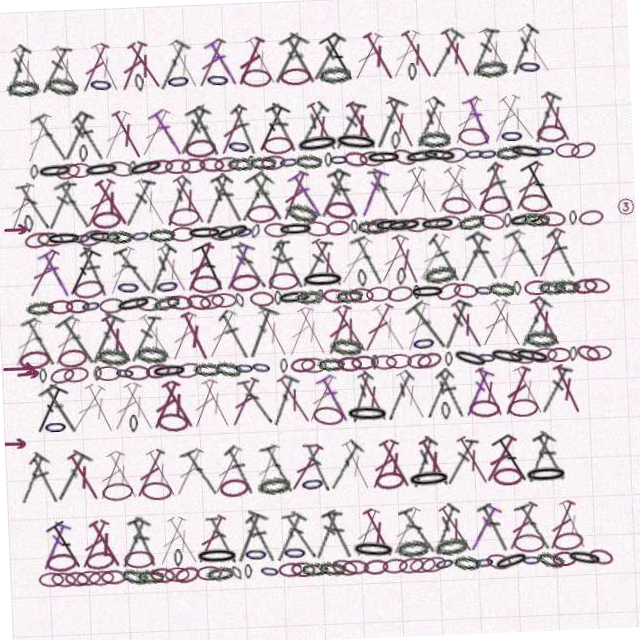chain: (340, 132, 387, 156), (449, 352, 488, 378), (302, 133, 348, 155), (341, 541, 387, 563), (288, 199, 324, 225), (217, 217, 256, 241), (482, 557, 521, 581), (341, 406, 386, 426), (486, 353, 525, 376), (133, 150, 172, 172), (511, 354, 550, 376), (555, 558, 594, 580), (400, 474, 445, 493), (54, 64, 89, 88), (514, 150, 553, 171), (115, 286, 154, 307), (302, 271, 347, 289), (517, 475, 562, 493), (185, 543, 230, 561), (424, 268, 459, 291), (424, 540, 459, 563), (74, 269, 107, 291), (152, 405, 185, 427), (308, 405, 341, 427), (427, 151, 465, 170), (511, 219, 549, 238), (133, 337, 167, 358), (328, 337, 362, 358), (250, 473, 284, 494), (89, 152, 127, 170), (410, 152, 448, 170), (389, 220, 427, 238), (525, 558, 556, 580), (484, 66, 518, 86), (94, 338, 128, 358), (386, 542, 420, 562), (465, 133, 497, 154), (543, 541, 575, 562), (329, 201, 360, 222), (75, 541, 106, 562), (277, 288, 315, 305), (436, 285, 464, 308), (573, 353, 601, 376), (524, 202, 556, 222), (17, 338, 49, 358), (134, 474, 166, 494), (460, 218, 490, 239), (152, 286, 182, 307), (109, 558, 139, 579), (43, 152, 80, 169), (90, 220, 127, 237), (328, 66, 361, 85), (523, 338, 556, 357), (485, 202, 516, 222), (231, 270, 262, 290), (56, 338, 87, 358), (212, 474, 243, 494), (397, 150, 425, 172), (81, 218, 110, 239), (506, 354, 535, 375), (320, 558, 349, 579), (211, 355, 241, 375), (16, 67, 49, 85), (425, 135, 458, 153), (423, 221, 460, 237), (149, 357, 186, 373), (251, 66, 282, 85), (192, 134, 223, 153), (173, 202, 204, 221), (251, 202, 282, 221), (446, 202, 477, 221), (192, 270, 223, 289), (465, 406, 496, 425), (95, 474, 126, 493), (368, 474, 399, 493), (36, 542, 67, 561), (504, 542, 535, 561), (577, 558, 605, 579), (544, 134, 574, 153), (96, 202, 126, 221), (233, 133, 260, 154), (113, 151, 141, 171), (576, 151, 604, 171), (482, 219, 510, 239), (290, 67, 321, 85), (270, 135, 301, 153), (270, 271, 301, 289), (504, 407, 535, 425), (114, 543, 145, 561), (372, 153, 409, 168), (49, 221, 86, 236), (190, 221, 227, 236), (281, 221, 318, 236), (377, 221, 414, 236), (410, 289, 447, 304), (61, 151, 88, 171), (186, 287, 213, 307), (47, 355, 74, 375), (414, 355, 441, 375), (486, 475, 516, 493), (163, 559, 190, 579), (410, 559, 437, 579), (475, 559, 502, 579), (27, 219, 55, 238), (195, 560, 224, 578), (98, 66, 124, 86), (215, 66, 241, 86), (156, 270, 182, 290), (447, 152, 475, 170), (307, 220, 335, 238), (584, 288, 612, 306), (527, 66, 553, 85), (117, 270, 143, 289), (410, 338, 436, 357), (293, 474, 319, 493), (501, 152, 530, 169), (26, 288, 55, 305), (295, 288, 324, 305), (488, 288, 517, 305), (553, 288, 582, 305), (307, 560, 336, 577), (442, 560, 471, 577), (349, 152, 376, 170), (167, 288, 194, 306), (388, 288, 415, 306), (173, 356, 200, 374), (53, 560, 80, 578), (399, 560, 426, 578), (176, 66, 201, 85), (234, 542, 259, 561), (273, 542, 298, 561), (582, 220, 608, 238), (200, 288, 226, 306), (323, 288, 349, 306), (454, 288, 480, 306), (40, 560, 66, 578), (388, 560, 414, 578), (153, 152, 180, 169), (40, 220, 67, 237), (267, 220, 294, 237), (370, 220, 397, 237), (439, 220, 466, 237), (543, 220, 570, 237), (529, 356, 556, 373), (332, 560, 359, 577), (507, 135, 532, 153), (39, 407, 64, 425), (301, 153, 329, 169), (360, 221, 388, 237), (336, 289, 364, 305), (539, 289, 567, 305), (126, 561, 154, 577), (187, 152, 213, 169), (205, 152, 231, 169), (220, 152, 246, 169), (329, 220, 355, 237), (136, 288, 162, 305), (250, 288, 276, 305), (61, 356, 87, 373), (143, 356, 169, 373), (288, 356, 314, 373), (65, 560, 91, 577), (139, 560, 165, 577), (280, 560, 306, 577), (423, 559, 446, 578), (409, 221, 436, 237), (369, 357, 396, 373), (233, 153, 261, 168), (255, 153, 283, 168), (108, 221, 136, 236), (151, 221, 179, 236), (526, 221, 554, 236), (191, 357, 219, 372), (315, 357, 343, 372), (290, 561, 318, 576), (267, 153, 293, 169), (366, 153, 392, 169), (573, 289, 599, 305), (122, 357, 148, 373), (299, 357, 325, 373), (78, 561, 104, 577), (372, 561, 398, 577), (236, 220, 259, 238), (248, 356, 271, 374), (248, 560, 271, 578), (212, 221, 237, 237), (100, 289, 125, 305), (350, 289, 375, 305), (335, 357, 360, 373), (405, 357, 430, 373), (353, 561, 378, 577), (73, 153, 99, 168), (171, 153, 197, 168), (48, 289, 74, 304), (212, 289, 238, 304), (367, 289, 393, 304), (525, 289, 551, 304), (93, 357, 119, 372), (384, 357, 410, 372), (28, 561, 54, 576), (90, 561, 116, 576), (186, 561, 212, 576), (562, 153, 587, 168), (174, 221, 199, 236), (66, 289, 91, 304), (349, 357, 374, 372), (545, 357, 570, 372), (585, 357, 610, 372), (154, 561, 179, 576), (268, 561, 293, 576), (542, 561, 567, 576), (74, 220, 96, 237), (133, 220, 155, 237), (81, 288, 103, 305), (474, 356, 496, 373), (112, 357, 134, 373), (285, 153, 306, 169), (484, 153, 505, 169), (475, 289, 496, 305), (232, 357, 253, 373), (464, 561, 485, 577), (335, 153, 356, 168), (471, 153, 492, 168), (542, 153, 563, 168), (511, 561, 532, 576), (220, 561, 234, 577), (144, 66, 155, 85), (253, 221, 265, 237), (235, 289, 247, 305), (398, 135, 408, 153), (28, 203, 38, 221), (359, 271, 369, 289), (398, 271, 408, 289), (437, 407, 447, 425), (133, 153, 144, 169), (315, 289, 326, 305), (418, 67, 427, 85), (86, 135, 95, 153), (125, 407, 134, 425), (164, 543, 173, 561), (36, 153, 45, 168), (253, 153, 262, 168), (354, 221, 363, 236), (507, 221, 516, 236), (514, 289, 523, 304), (91, 357, 100, 372), (567, 357, 576, 372), (331, 153, 339, 168), (573, 221, 581, 236), (275, 289, 283, 304), (414, 289, 422, 304), (37, 357, 45, 372), (278, 357, 286, 372), (369, 357, 377, 372), (443, 357, 451, 372), (234, 561, 242, 576)
double: (405, 303, 453, 358), (55, 303, 101, 359), (35, 371, 81, 427), (277, 31, 322, 87), (250, 167, 295, 223), (43, 439, 88, 495), (290, 31, 334, 87), (485, 439, 529, 495), (36, 507, 80, 563), (329, 31, 372, 87), (258, 99, 301, 155), (63, 235, 106, 291), (83, 303, 126, 359), (193, 99, 235, 155), (376, 99, 418, 155), (525, 167, 567, 223), (25, 371, 67, 427), (434, 32, 478, 85), (317, 440, 361, 493), (239, 168, 282, 222), (173, 440, 216, 494), (240, 303, 281, 359), (220, 507, 261, 563), (504, 101, 548, 153), (454, 236, 496, 290), (513, 304, 555, 358), (194, 235, 234, 291), (446, 169, 489, 221), (63, 373, 106, 425), (135, 32, 177, 85), (96, 168, 138, 221), (415, 236, 457, 289), (162, 32, 203, 86), (37, 100, 78, 154), (369, 304, 410, 358), (259, 508, 300, 562), (505, 508, 546, 562), (104, 507, 144, 562), (337, 237, 379, 289), (279, 441, 321, 493), (318, 32, 359, 85), (25, 236, 66, 289), (330, 304, 371, 357), (271, 372, 312, 425), (474, 440, 515, 493), (427, 508, 468, 561), (358, 32, 398, 86), (455, 100, 495, 154), (58, 168, 98, 222), (175, 168, 215, 222), (436, 168, 476, 222), (155, 372, 195, 426), (58, 440, 98, 494), (97, 440, 137, 494), (77, 508, 117, 562), (182, 508, 222, 562), (506, 235, 545, 290), (19, 303, 58, 358), (7, 439, 46, 494), (253, 439, 292, 494), (514, 439, 553, 494), (526, 32, 566, 85), (143, 100, 183, 153), (155, 100, 195, 153), (292, 168, 332, 221), (136, 304, 176, 357), (475, 304, 515, 357), (455, 508, 495, 561), (253, 32, 292, 86), (487, 32, 526, 86), (116, 100, 155, 154), (514, 168, 553, 222), (311, 236, 350, 290), (494, 236, 533, 290), (7, 304, 46, 358), (487, 304, 526, 358), (104, 372, 143, 426), (370, 440, 409, 494), (534, 99, 572, 154), (351, 235, 389, 290), (19, 32, 58, 85), (214, 32, 253, 85), (397, 32, 436, 85), (409, 32, 448, 85), (182, 100, 221, 153), (85, 168, 124, 221), (397, 168, 436, 221), (377, 236, 416, 289), (202, 304, 241, 357), (358, 304, 397, 357), (448, 304, 487, 357), (299, 372, 338, 425), (124, 440, 163, 493), (163, 440, 202, 493), (202, 440, 241, 493), (448, 440, 487, 493), (526, 440, 565, 493), (155, 508, 194, 561), (377, 508, 416, 561), (494, 508, 533, 561), (86, 32, 124, 86), (176, 32, 214, 86), (203, 32, 241, 86), (242, 32, 280, 86), (371, 32, 409, 86), (66, 100, 104, 154), (105, 100, 143, 154), (351, 100, 389, 154), (495, 100, 533, 154), (546, 100, 584, 154), (137, 168, 175, 222), (215, 168, 253, 222), (320, 168, 358, 222), (410, 168, 448, 222), (39, 236, 77, 290), (156, 236, 194, 290), (183, 236, 221, 290), (468, 236, 506, 290), (534, 236, 572, 290), (98, 304, 136, 358), (254, 304, 292, 358), (293, 304, 331, 358), (527, 304, 565, 358), (117, 372, 155, 426), (144, 372, 182, 426), (222, 372, 260, 426), (312, 372, 350, 426), (351, 372, 389, 426), (507, 372, 545, 426), (137, 440, 175, 494), (359, 440, 397, 494), (410, 440, 448, 494), (66, 508, 104, 562), (144, 508, 182, 562), (351, 508, 389, 562), (299, 101, 339, 152), (261, 371, 298, 426), (116, 237, 155, 289), (59, 32, 96, 86), (98, 32, 135, 86), (125, 32, 162, 86), (449, 32, 486, 86), (222, 100, 259, 154), (273, 100, 310, 154), (312, 100, 349, 154), (429, 100, 466, 154), (281, 168, 318, 222), (332, 168, 369, 222), (476, 168, 513, 222), (105, 236, 142, 290), (222, 236, 259, 290), (47, 304, 84, 358), (164, 304, 201, 358), (78, 372, 115, 426), (195, 372, 232, 426), (390, 372, 427, 426), (456, 372, 493, 426), (495, 372, 532, 426), (86, 440, 123, 494), (332, 440, 369, 494), (27, 508, 64, 562), (312, 508, 349, 562), (339, 508, 376, 562), (468, 508, 505, 562), (534, 508, 571, 562), (417, 101, 455, 153), (390, 509, 428, 561), (515, 32, 552, 85), (144, 236, 181, 289), (28, 100, 64, 154), (391, 100, 427, 154), (360, 168, 396, 222), (391, 236, 427, 290), (177, 304, 213, 358), (282, 304, 318, 358), (438, 304, 474, 358), (469, 372, 505, 426), (547, 372, 583, 426), (243, 440, 279, 494), (234, 373, 272, 424), (78, 101, 115, 153), (339, 101, 376, 153), (203, 169, 240, 221), (273, 237, 310, 289), (300, 237, 337, 289), (429, 237, 466, 289), (534, 373, 571, 425), (437, 441, 474, 493), (9, 168, 44, 222), (321, 304, 356, 358), (184, 372, 219, 426), (118, 508, 153, 562), (547, 508, 582, 562), (234, 237, 271, 288), (273, 509, 310, 560), (48, 33, 84, 85), (126, 169, 162, 221), (126, 305, 162, 357), (216, 305, 252, 357), (399, 440, 434, 493), (418, 508, 453, 561), (21, 169, 57, 220), (400, 304, 434, 358), (418, 373, 454, 424), (379, 373, 414, 425), (21, 441, 56, 493), (235, 509, 270, 561), (10, 32, 44, 85), (478, 32, 512, 85), (49, 168, 83, 221), (548, 236, 582, 289), (431, 372, 465, 425), (217, 440, 251, 493), (470, 100, 503, 154), (302, 508, 335, 561), (166, 169, 199, 221), (373, 169, 406, 221), (197, 509, 230, 561), (491, 168, 523, 221), (81, 236, 113, 289), (237, 100, 268, 153), (343, 372, 373, 425), (265, 236, 294, 289), (297, 440, 326, 493)
noise: (0, 349, 35, 363), (620, 209, 640, 230), (14, 356, 39, 367), (7, 212, 33, 222), (0, 426, 23, 436)
